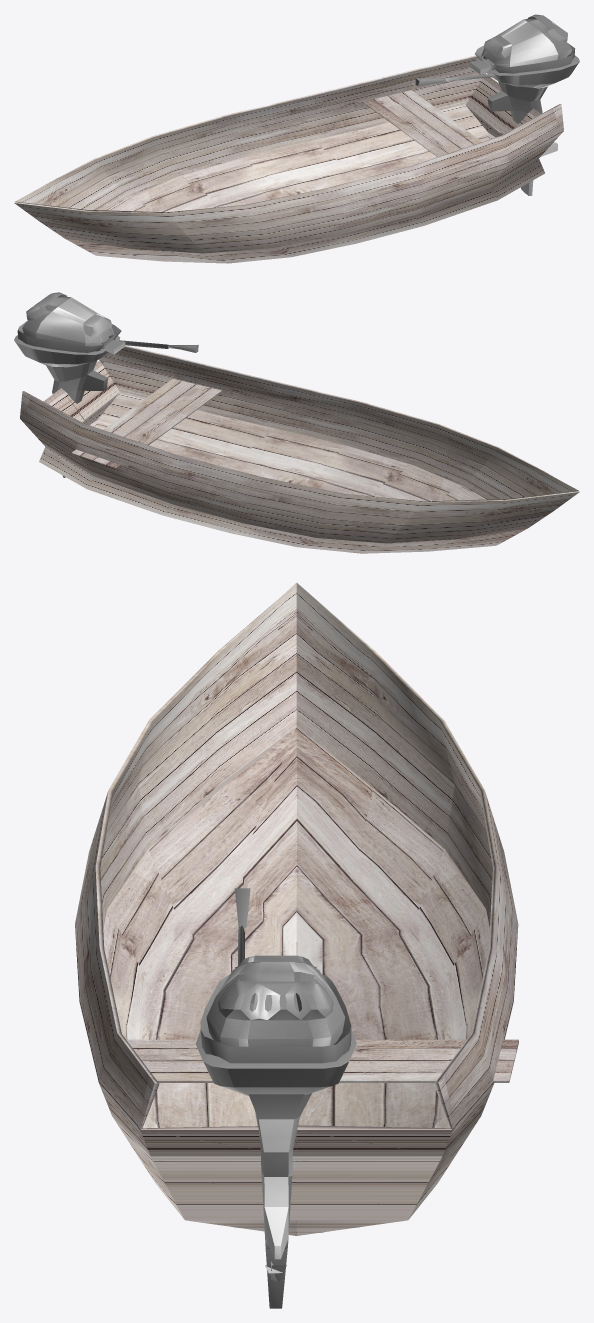
Rendered from boat.fbx.
3 renders of one model, top to bottom at view 1: azimuth 30°, elevation 25°; view 2: azimuth 150°, elevation 25°; view 3: azimuth 270°, elevation 25°, orthographic. The views are drawn at different scales.
Visible parts, largest first — view 1: boat2; view 2: boat2; view 3: boat2.
Boxes of the visible parts, x1,y1,x2,y2 form: boat2: [14, 14, 579, 263]; boat2: [14, 292, 579, 553]; boat2: [75, 582, 518, 1308].
Bounding box in the file's own units: 676 × 202 × 238.
2 materials, 2 textured.
